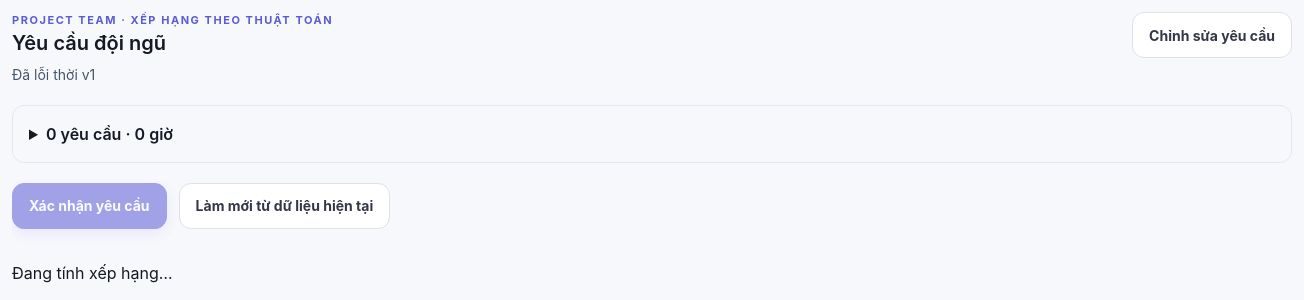
Test: TeamPanel › refreshes a stale snapshot through a new immutable revision
This screenshot has width=1304, height=300.
Click the button "Làm mới từ dữ liệu hiện tại". click: (284, 206)
box: top-left (179, 182), bottom-right (390, 228)
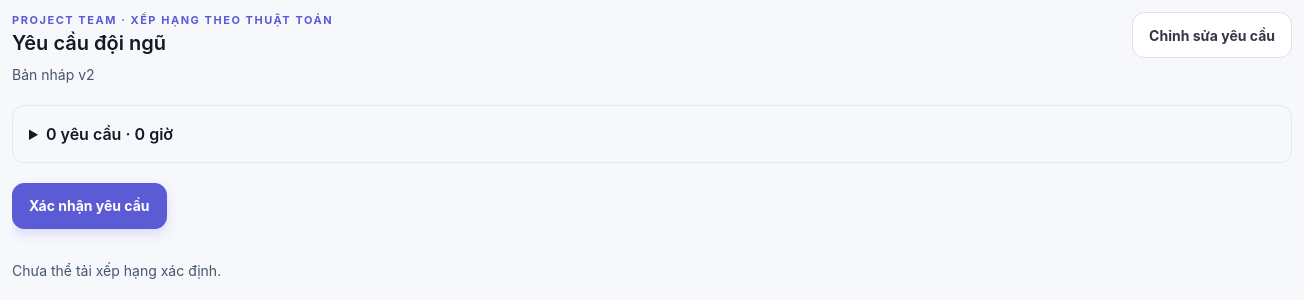
Now the text "Bản nháp v2" is shown, box top-left (12, 66), bottom-right (95, 82)
